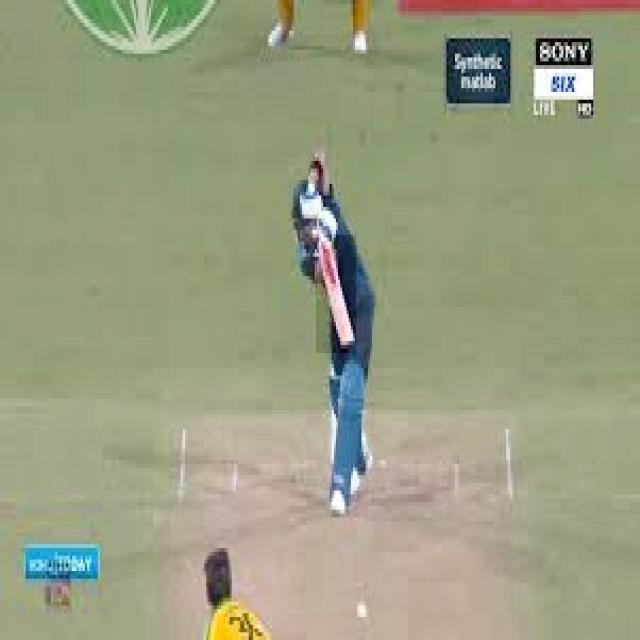bat: (314, 229, 355, 353)
toe: (327, 335, 370, 350)
